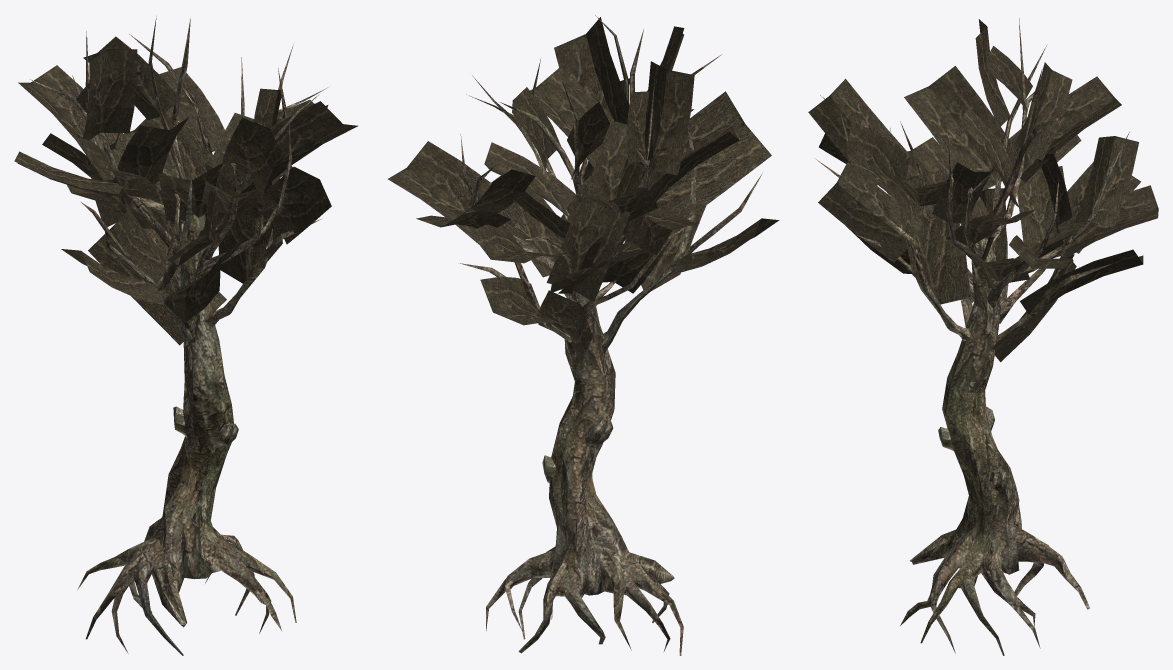
The model's file is bg_anh_foliage_te_t08_sm_phs.FBX.
3 renders of one model, left to right at view 1: azimuth 30°, elevation 25°; view 2: azimuth 150°, elevation 25°; view 3: azimuth 270°, elevation 25°, orthographic. The views are drawn at different scales.
Parts seen in each view (by area): view 1: bg_anh_foliage_te_t08_sm_phs; view 2: bg_anh_foliage_te_t08_sm_phs; view 3: bg_anh_foliage_te_t08_sm_phs.
Part boxes in pixels (x1=…): bg_anh_foliage_te_t08_sm_phs: x1=14, y1=16, x2=357, y2=655; bg_anh_foliage_te_t08_sm_phs: x1=388, y1=15, x2=779, y2=655; bg_anh_foliage_te_t08_sm_phs: x1=808, y1=18, x2=1158, y2=655.
Bounding box in the file's own units: 318 × 602 × 331.
